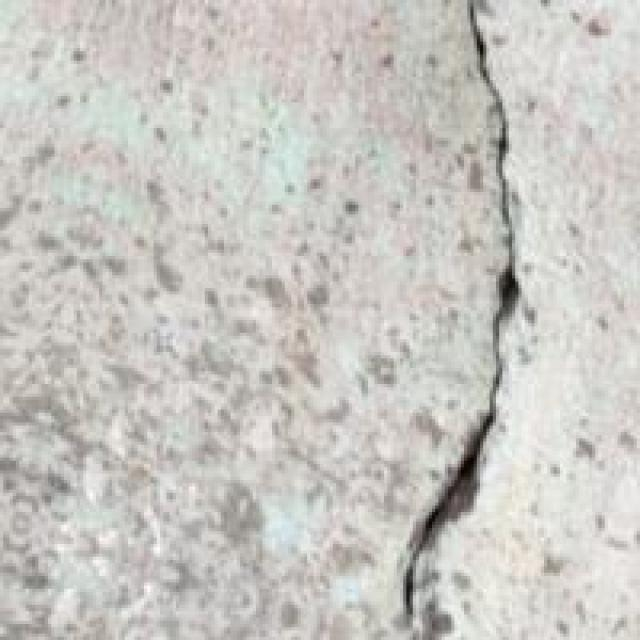Crack: (349, 0, 560, 637)
